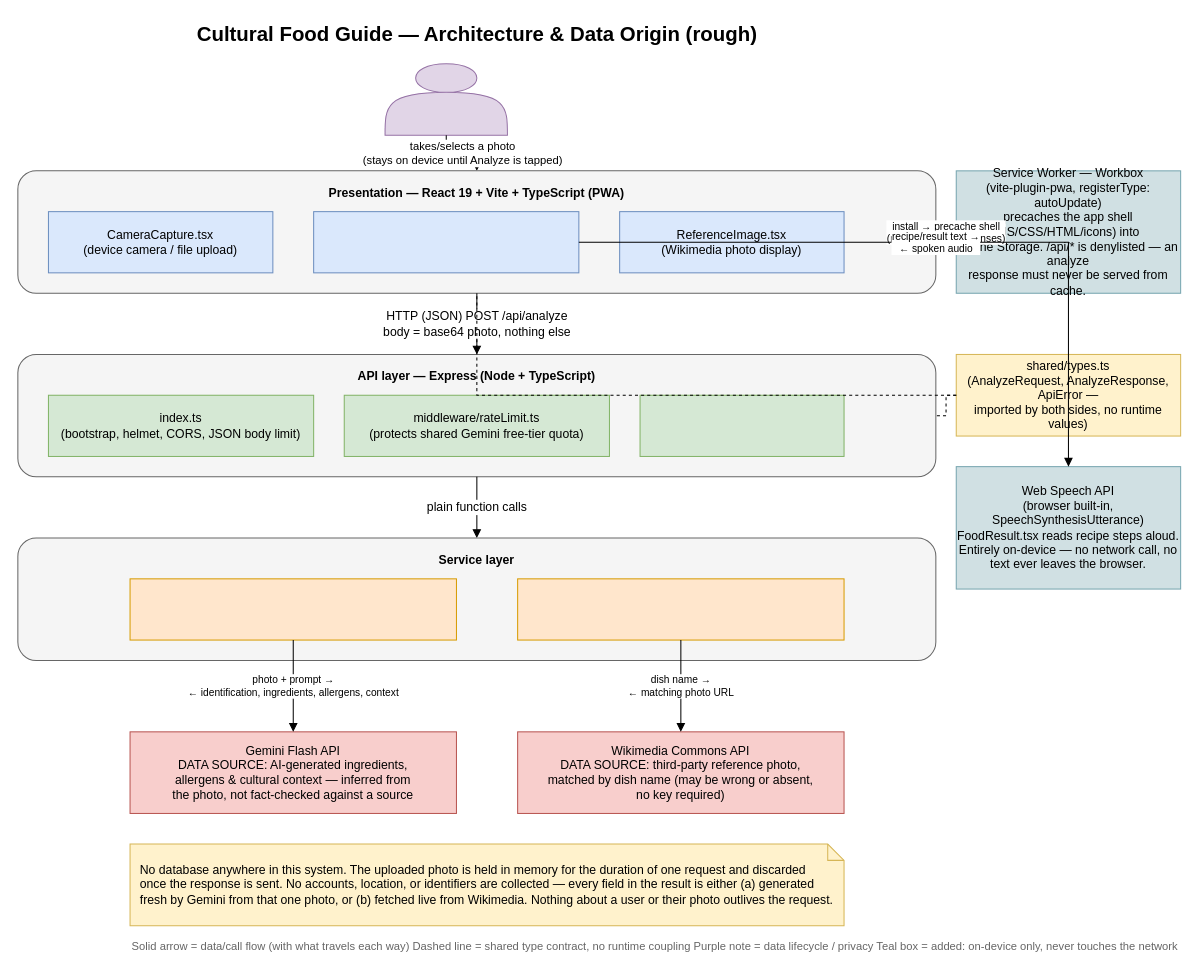
Some shapes in this 1199 by 973 pixel diagram are drawn without their labels. The shapes that lost their labels are listed below. From the top down, each one's centre as x and y in pixels, then its label:
(445,99): User (visitor / exchange student)
(446,242): FoodResult.tsx (ingredients, allergens, cultural context, TTS)
(741,425): routes/analyze.ts (validation, status codes)
(292,609): services/aiService.ts (prompt, Gemini call, response parsing)
(680,609): services/imageService.ts (Wikimedia reference image lookup)
